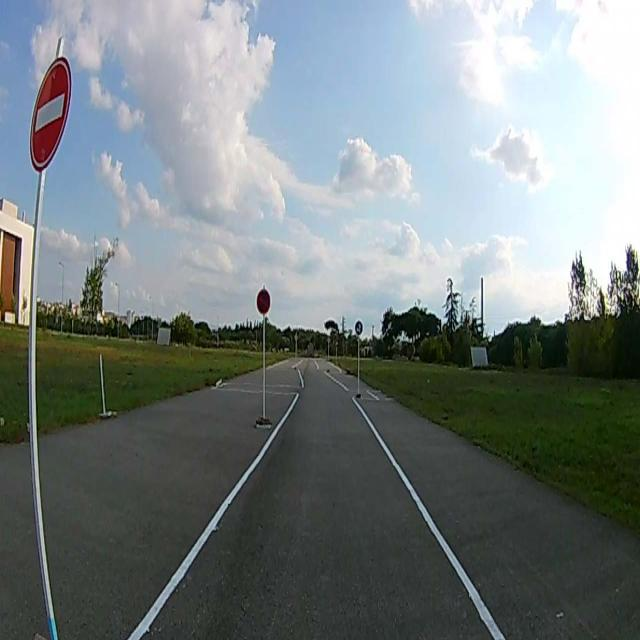girisyok: (29, 61, 72, 171)
